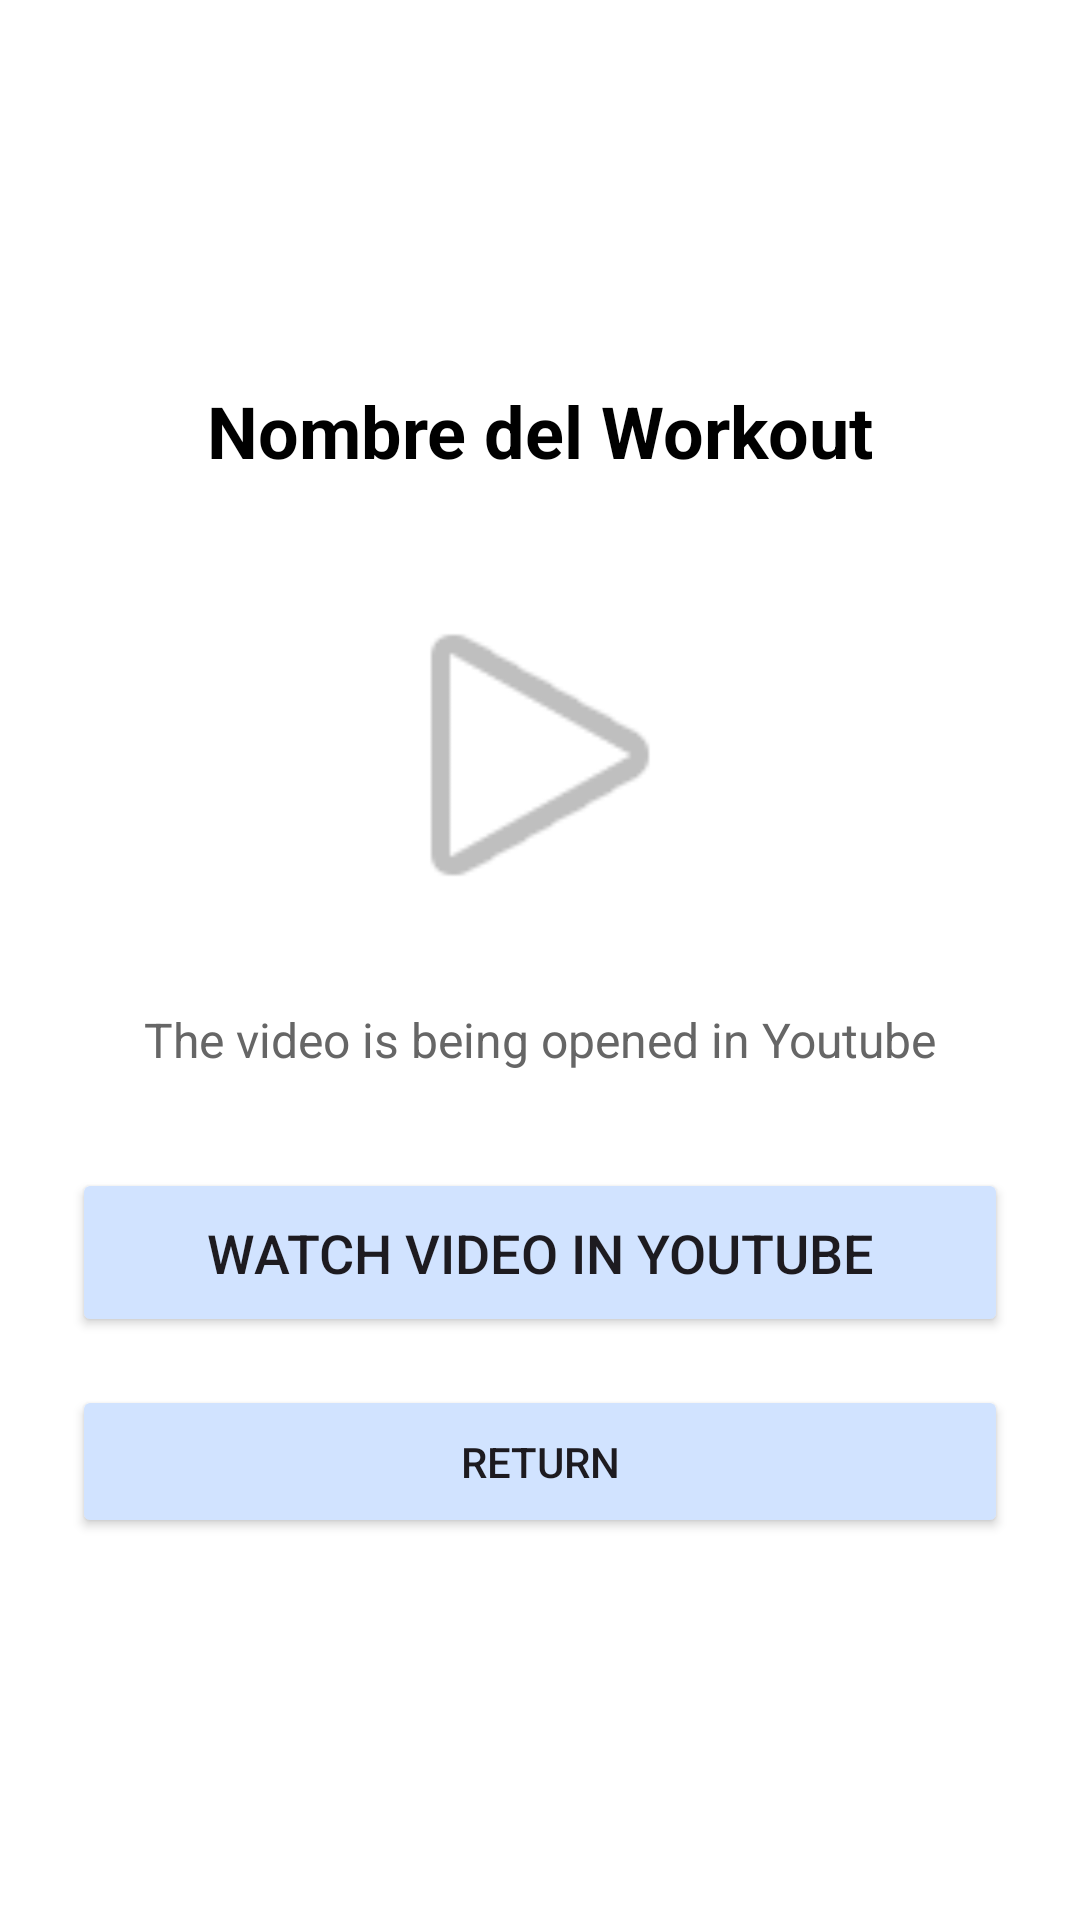

Screen size 1080w x 1920h. Icon name, then its box in pixels as (x1, y1, x2, y2):
Icono de reproducción: (431, 635, 649, 875)
